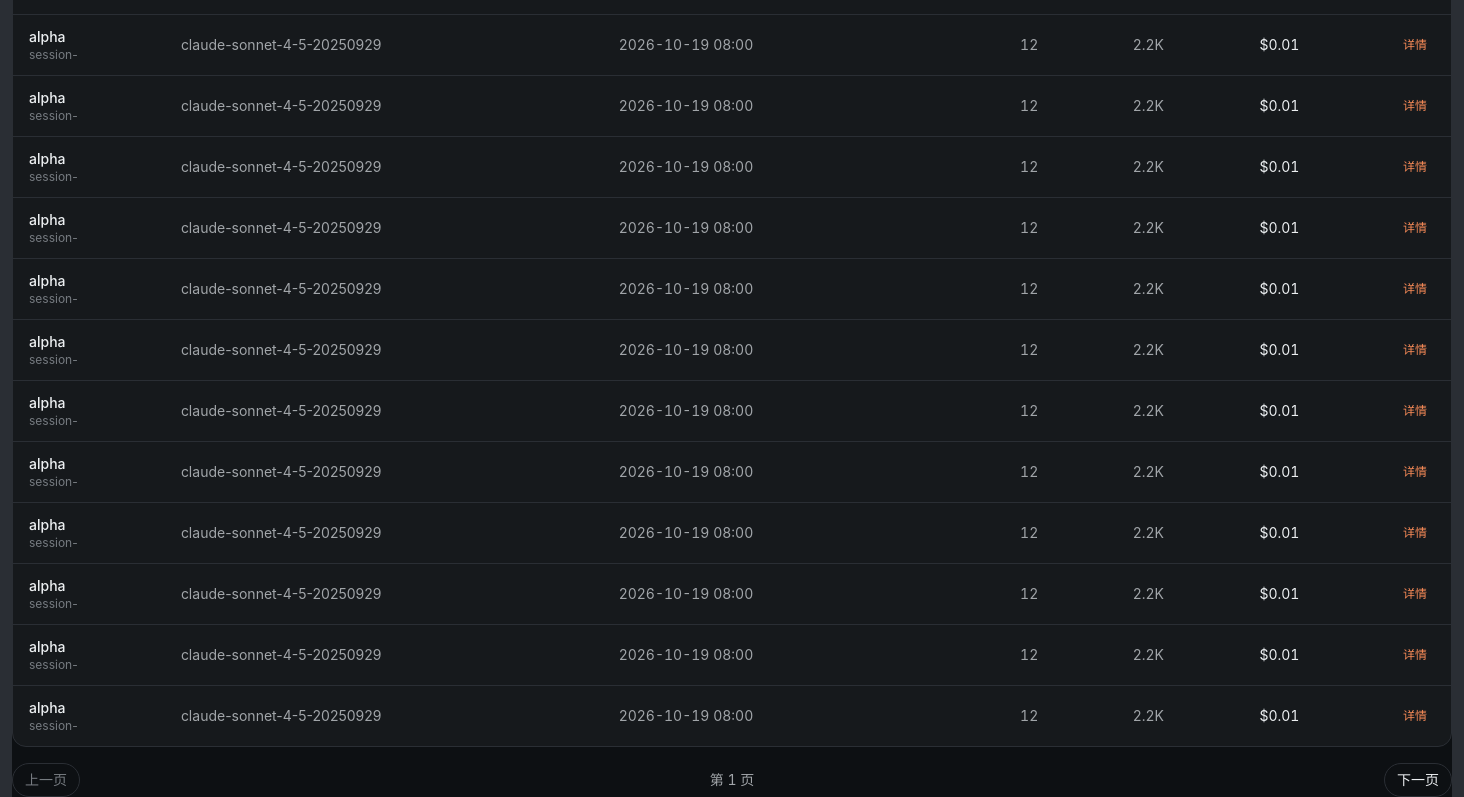
Test case: SessionsPage › 点击下一页带上 page=2
This screenshot has width=1464, height=797.
(page scrolled)
Click the button "下一页": [1418, 780] box [1384,763,1452,796]
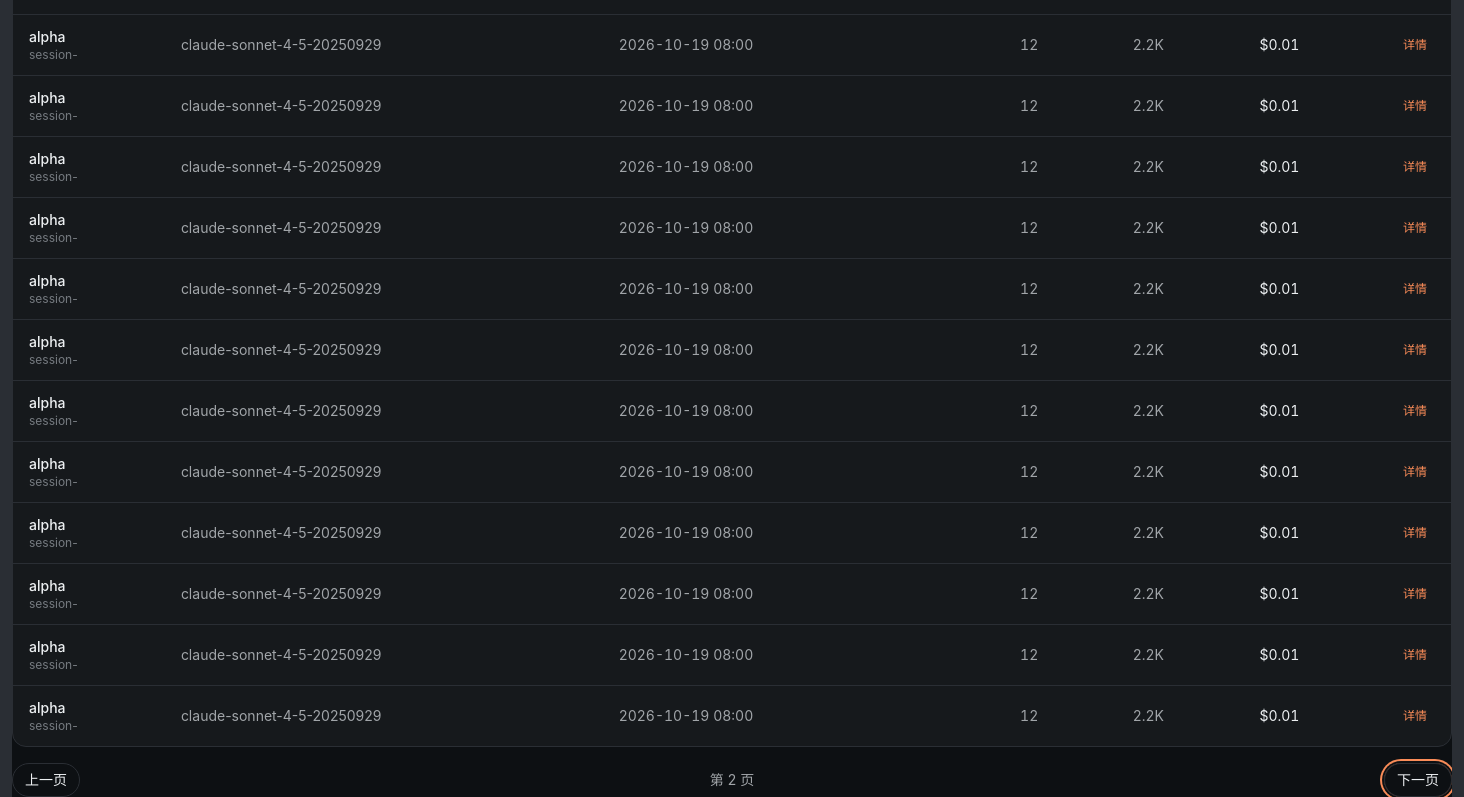
Check: the text "第 2 页" is shown, box [710,770,754,790]
